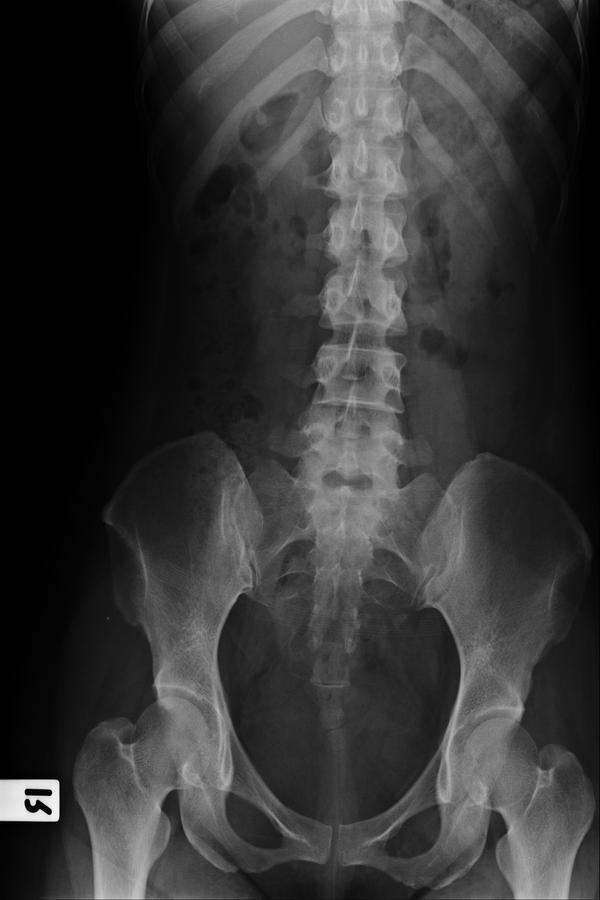lumbar scoliosis: (288, 128, 422, 526)
